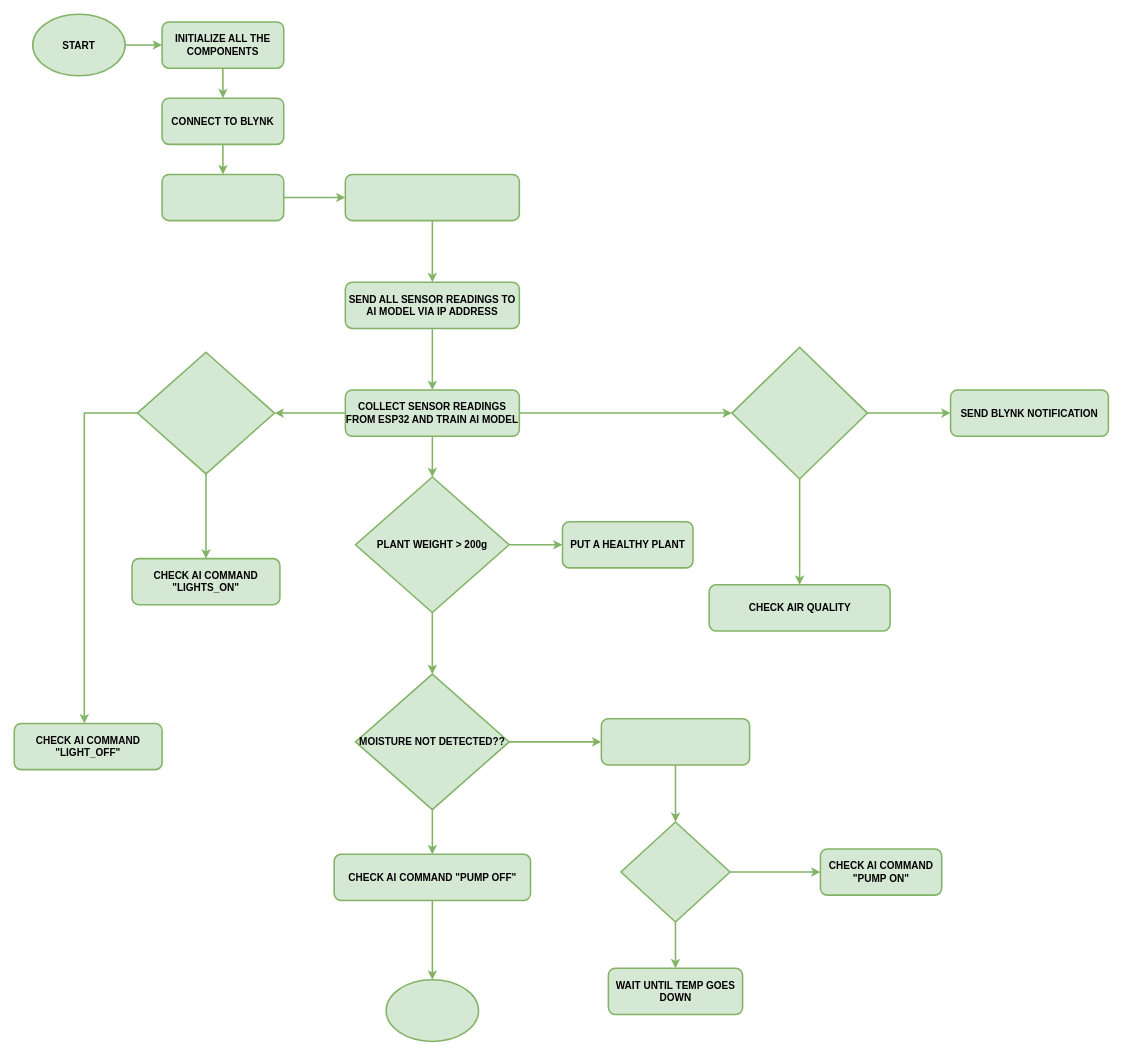
Image size: 1122x1055. Some labels were removed from this diagram. The shapes that lost their labels are listed below. From the top down, each one's box as (x1, y1, x2, y2) in pixels, then its label:
(161, 173, 284, 221): CHECK ALL SENSOR READINGS
(344, 173, 520, 221): ACTIVATE LSTM AI MODEL
(136, 351, 275, 474): LDR < LDR THRESHOLD
(731, 346, 868, 479): AIR QUALITY GOOD
(600, 718, 750, 765): CHECK TANK TEMPERATURE
(620, 821, 730, 922): TEMP HIGH
(385, 979, 479, 1042): END
